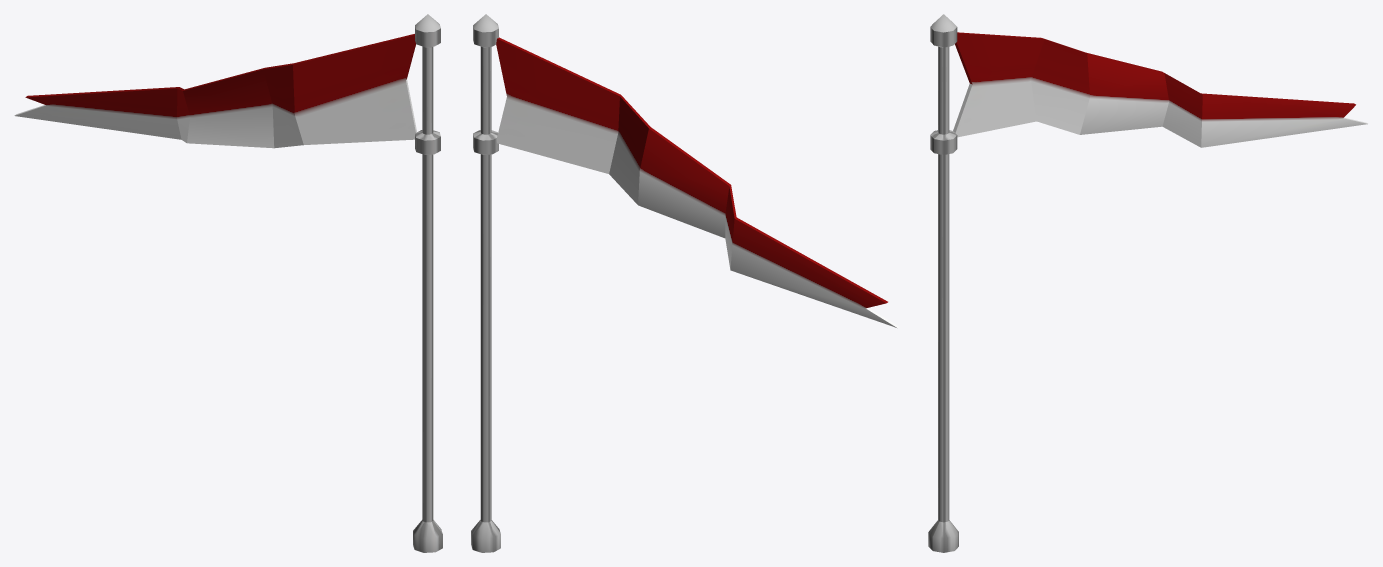
3 views of the same model, side by side, from view 1: azimuth 30°, elevation 25°; view 2: azimuth 210°, elevation 25°; view 3: azimuth 270°, elevation 25° (orthographic).
Parts seen in each view (by area): view 1: Castle-flag-red_Texture-base_0; view 2: Castle-flag-red_Texture-base_0; view 3: Castle-flag-red_Texture-base_0.
Boxes of the visible parts, left/top/right/bottom form: Castle-flag-red_Texture-base_0: left=14, top=14, right=442, bottom=552; Castle-flag-red_Texture-base_0: left=471, top=14, right=899, bottom=552; Castle-flag-red_Texture-base_0: left=928, top=14, right=1367, bottom=552.
Bounding box in the file's own units: 2.8 × 6.62 × 4.96.
Materials: 1 (1 with a texture image).
